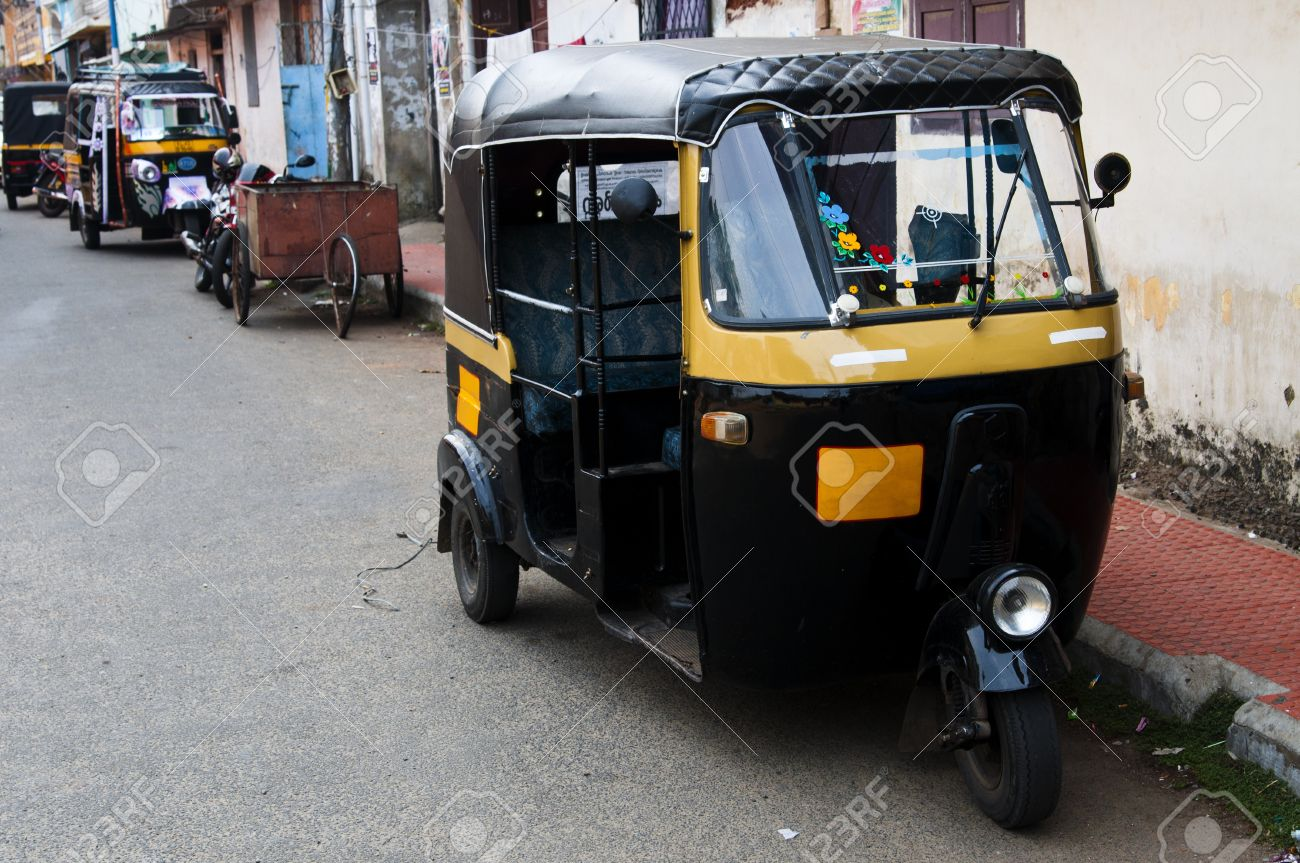autorickshaw: (428, 28, 1150, 834), (49, 62, 251, 266), (4, 73, 65, 217)
